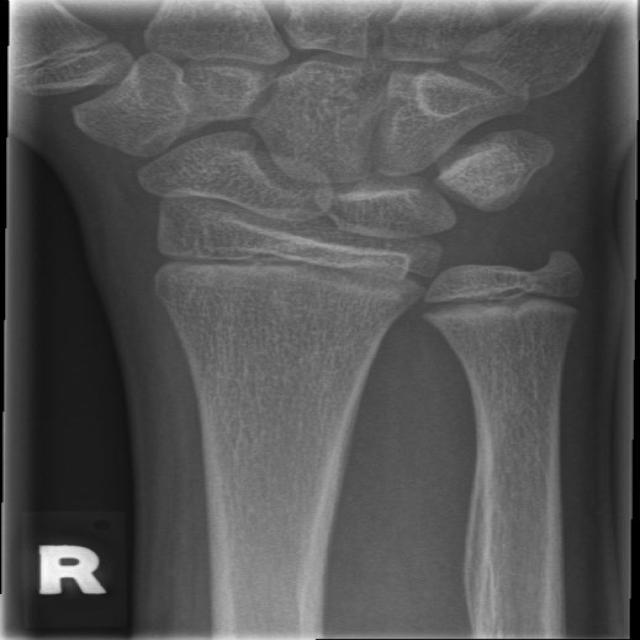fracture: (135, 231, 438, 314), (403, 275, 618, 331)
